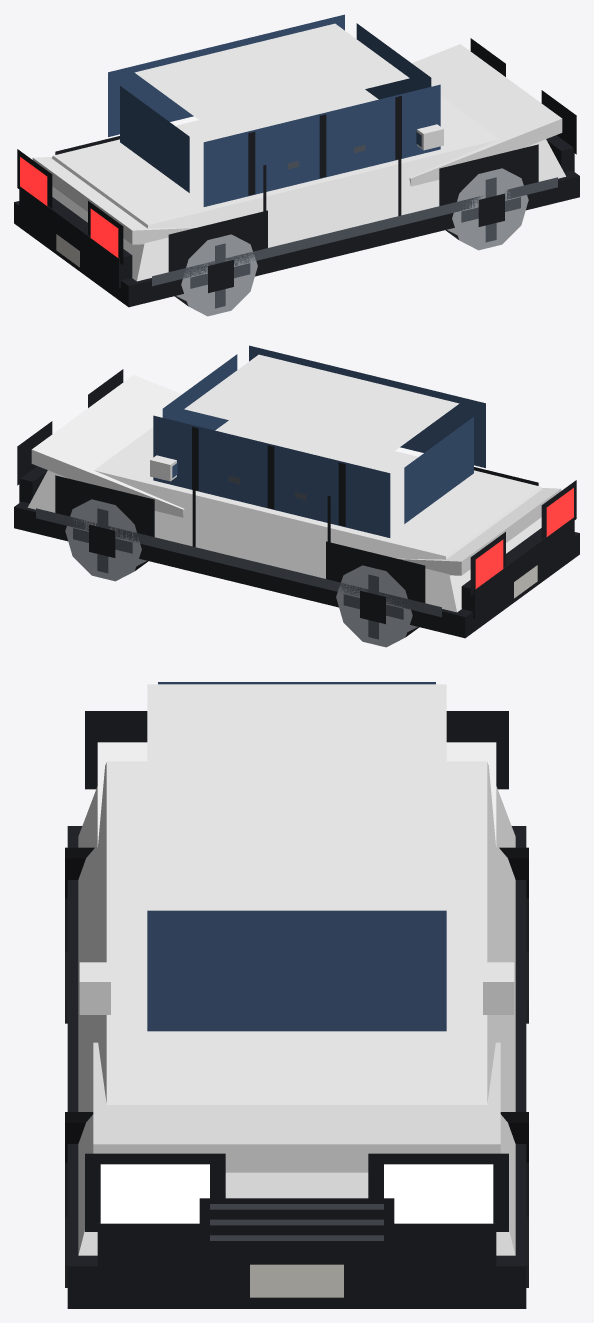
File: car_sedan.glb
3 renders of one model, top to bottom at view 1: azimuth 30°, elevation 25°; view 2: azimuth 150°, elevation 25°; view 3: azimuth 270°, elevation 25°, orthographic. The views are drawn at different scales.
Parts seen in each view (by area): view 1: car_sedan; view 2: car_sedan; view 3: car_sedan.
Boxes of the visible parts, x1=… form: car_sedan: x1=14, y1=14, x2=579, y2=316; car_sedan: x1=14, y1=345, x2=579, y2=647; car_sedan: x1=65, y1=682, x2=528, y2=1308.
Size of the model in its own units: 0.4061 by 0.1429 by 0.1824.
